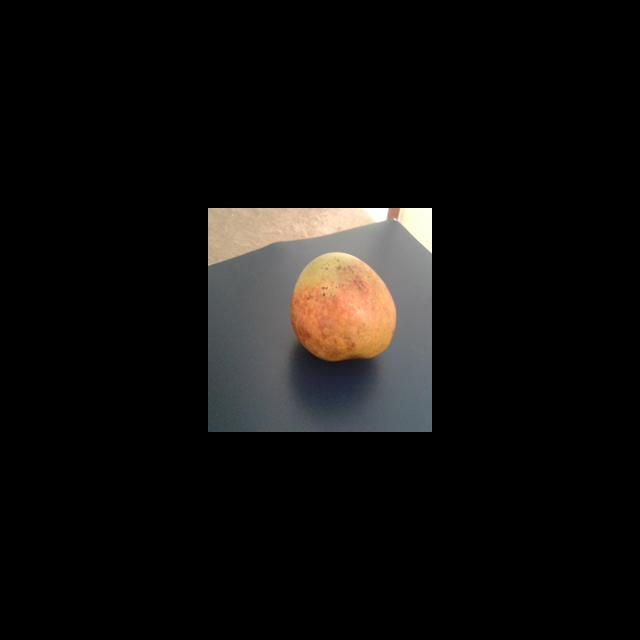Mango: (289, 251, 396, 362)
